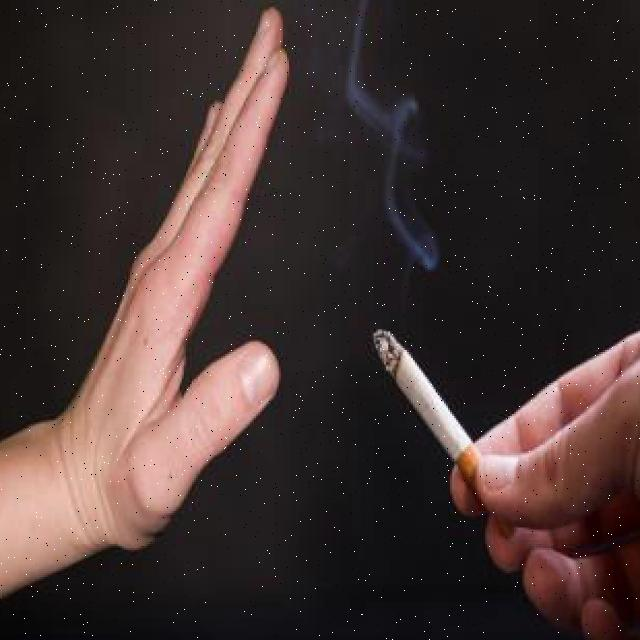smoke: (329, 0, 443, 324)
